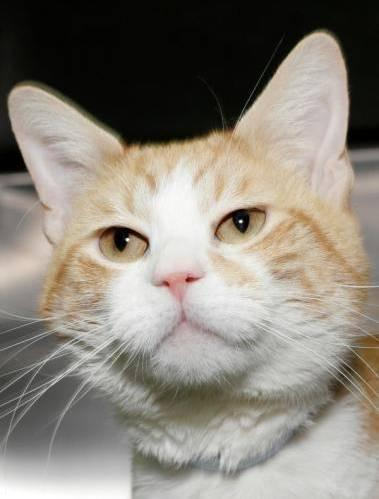cat: (9, 31, 378, 498)
